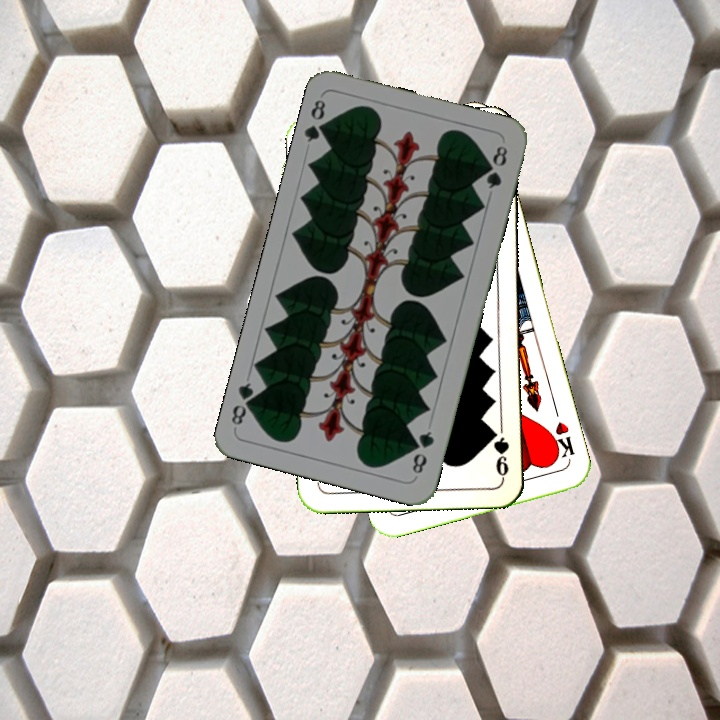G8: (300, 95, 333, 145), (408, 427, 437, 477)
G9: (489, 425, 511, 481)
HK: (546, 417, 577, 463)
